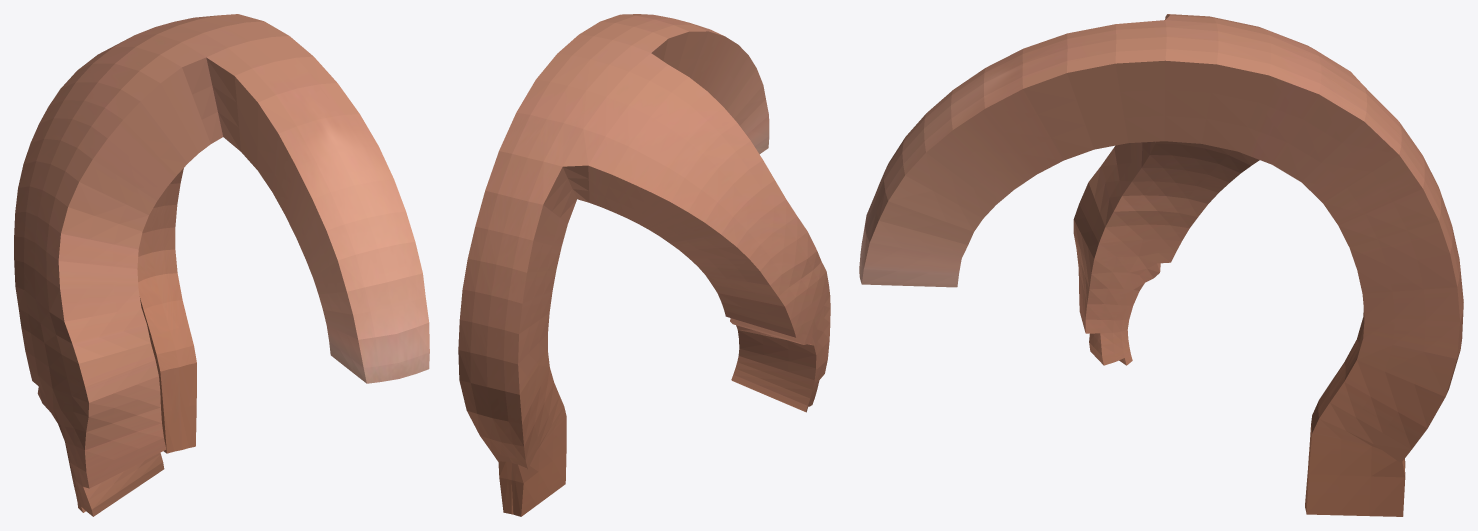
File: debug-hair.dae
3 views of the same model, side by side, from view 1: azimuth 30°, elevation 25°; view 2: azimuth 150°, elevation 25°; view 3: azimuth 270°, elevation 25° (orthographic). The views are drawn at different scales.
Parts seen in each view (by area): view 1: polySurface1; view 2: polySurface1; view 3: polySurface1.
Part boxes in pixels (x1=…): polySurface1: x1=14, y1=14, x2=429, y2=516; polySurface1: x1=458, y1=14, x2=830, y2=516; polySurface1: x1=859, y1=14, x2=1463, y2=516.
Bounding box in the file's own units: 0.1394 × 0.2412 × 0.278.
